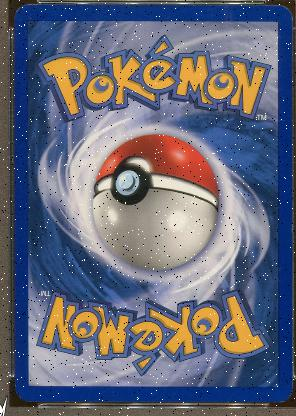Card: (11, 0, 293, 406)
Corner Wear: (13, 382, 36, 404), (14, 4, 22, 14)
Edge Wear: (270, 400, 282, 402)
